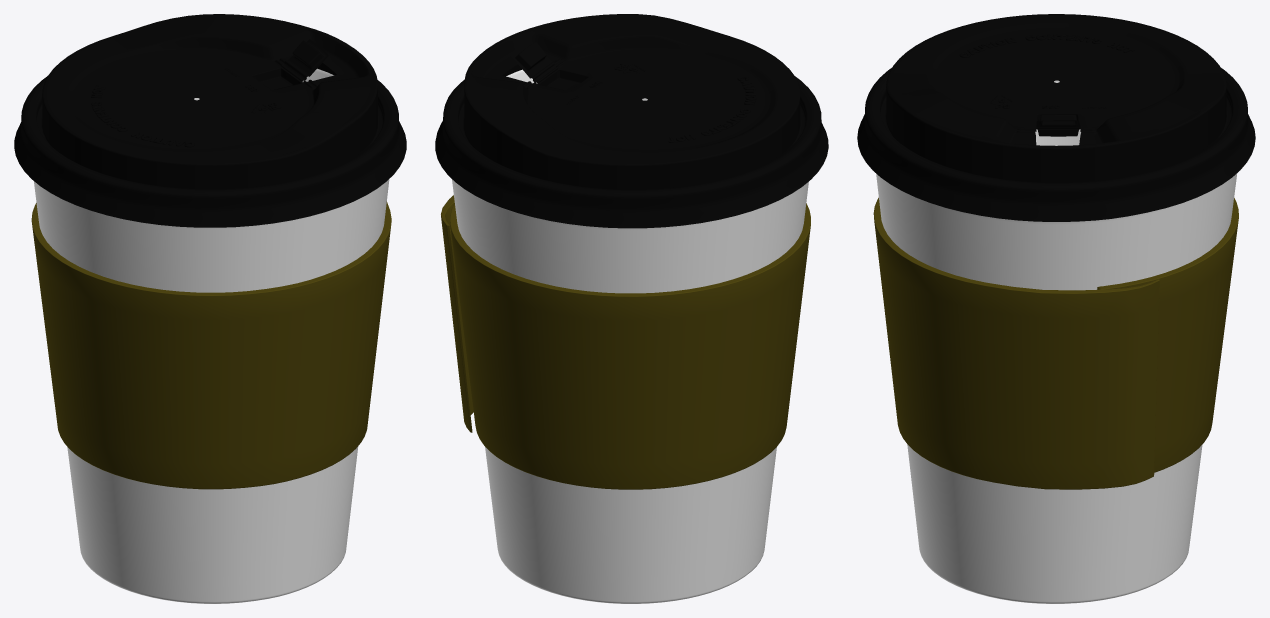
File: vaso de plastico para cafes.glb
The picture shows the model from 3 angles, left to right: view 1: azimuth 30°, elevation 25°; view 2: azimuth 150°, elevation 25°; view 3: azimuth 270°, elevation 25°; orthographic projection.
Parts seen in each view (by area): view 1: Circle.005_Circle.198, Circle.001_Circle.006, Circle.000_Circle.197, Circle.002, Circle.061_Circle.063; view 2: Circle.005_Circle.198, Circle.001_Circle.006, Circle.000_Circle.197, Circle.002, Circle.061_Circle.063; view 3: Circle.005_Circle.198, Circle.001_Circle.006, Circle.000_Circle.197, Circle.061_Circle.063, Circle.002.
Part boxes in pixels (x1,y1,x2,y2): Circle.005_Circle.198: (31,201,391,489); Circle.001_Circle.006: (14,14,406,227); Circle.000_Circle.197: (34,68,389,603); Circle.002: (281,39,328,81); Circle.061_Circle.063: (91,68,281,147); Circle.005_Circle.198: (441,195,810,489); Circle.001_Circle.006: (435,14,828,228); Circle.000_Circle.197: (452,69,808,603); Circle.002: (510,41,558,83); Circle.061_Circle.063: (566,63,756,142); Circle.005_Circle.198: (873,197,1238,489); Circle.001_Circle.006: (857,14,1255,221); Circle.000_Circle.197: (876,80,1237,603); Circle.061_Circle.063: (959,34,1134,108); Circle.002: (1036,115,1081,129).
Size of the model in its own units: 6.39 by 8.55 by 6.39.
